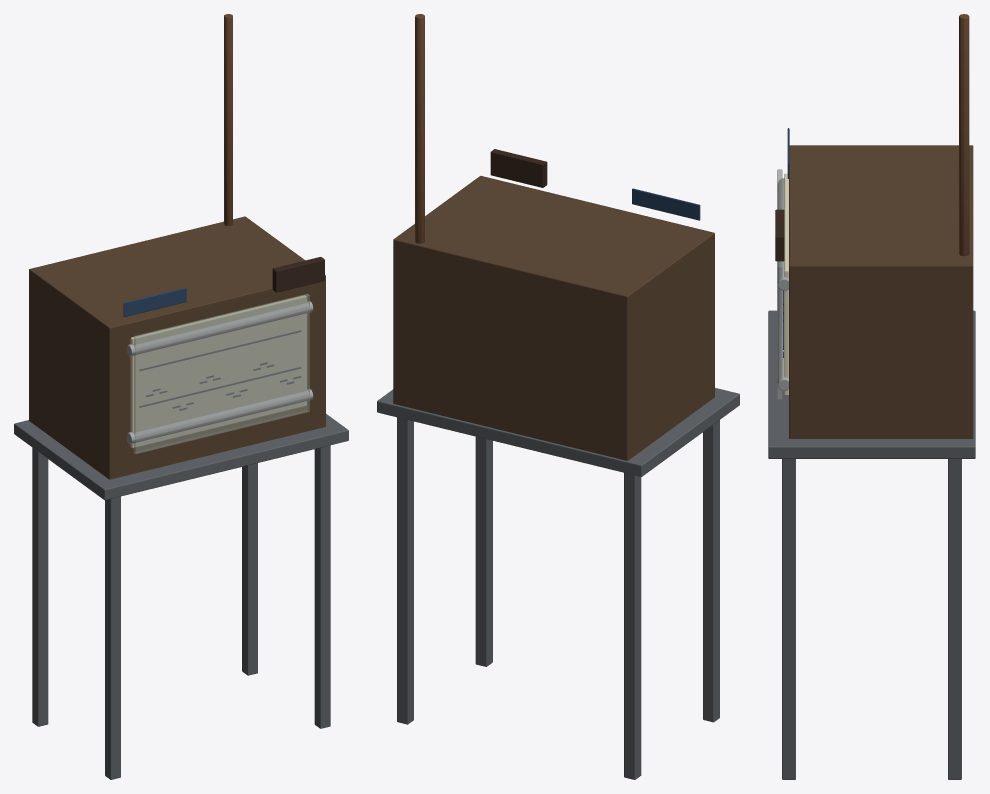
File: PROP_Recorder_Chart_Strip.glb
3 views of the same model, side by side, from view 1: azimuth 30°, elevation 25°; view 2: azimuth 150°, elevation 25°; view 3: azimuth 270°, elevation 25° (orthographic). The views are drawn at different scales.
Parts seen in each view (by area): view 1: PROP_Recorder_Chart_Strip_Mesh, PROP_Recorder_Chart_Strip_Trace_Flat; view 2: PROP_Recorder_Chart_Strip_Mesh; view 3: PROP_Recorder_Chart_Strip_Mesh.
Boxes of the visible parts, bbox=[...] form: PROP_Recorder_Chart_Strip_Mesh: bbox=[14, 14, 348, 779]; PROP_Recorder_Chart_Strip_Trace_Flat: bbox=[139, 330, 300, 407]; PROP_Recorder_Chart_Strip_Mesh: bbox=[377, 14, 739, 779]; PROP_Recorder_Chart_Strip_Mesh: bbox=[768, 14, 975, 779].
Size of what is drawn, in the model's own units: 0.7 by 1.8 by 0.45.
